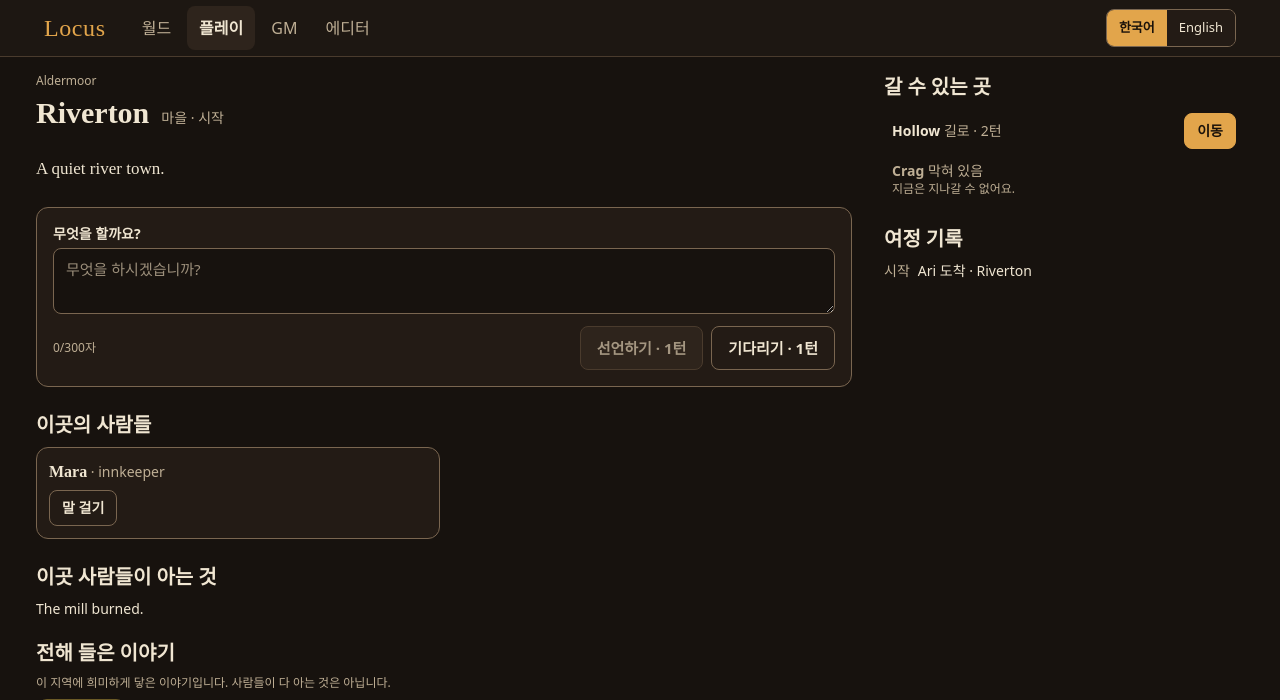
Test: PlayPage › U4-2 #15: a failed poll re-enables the actions instead of latching them off
Click the button with test id "wait-btn": (773, 348) [711,326,835,370]
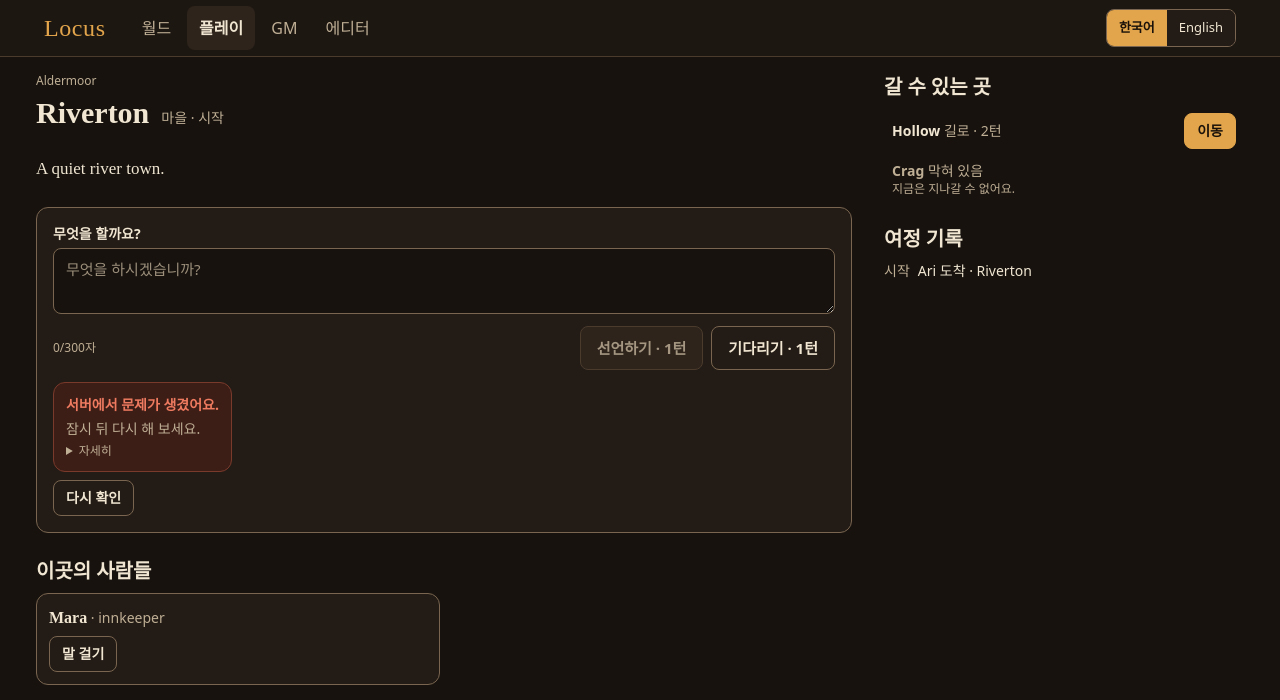
Check: the button with test id "move-b-btn" is enabled, box [1184,113,1236,149]
Check: the element with test id "turn-error" is shown, box [53,382,232,516]
Check: the button with test id "turn-recheck" is shown, box [53,480,134,516]
